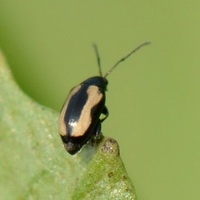insect: (59, 42, 149, 154)
